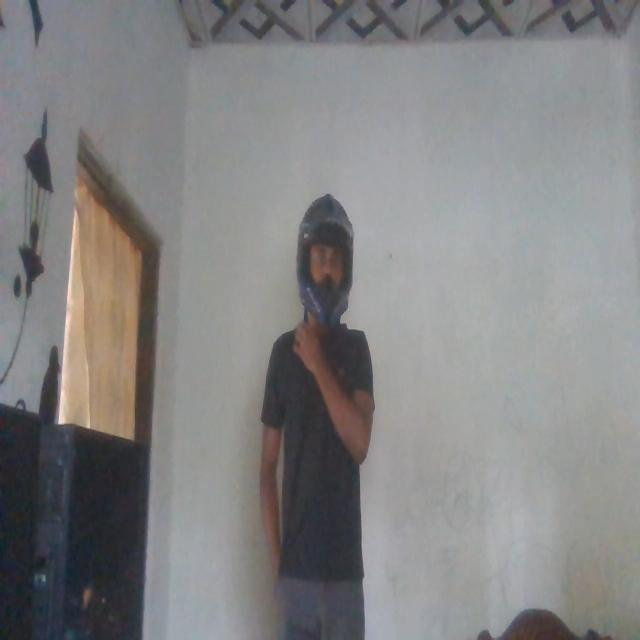Helmet_Wearer: (295, 191, 357, 342)
Person: (254, 181, 382, 631)
